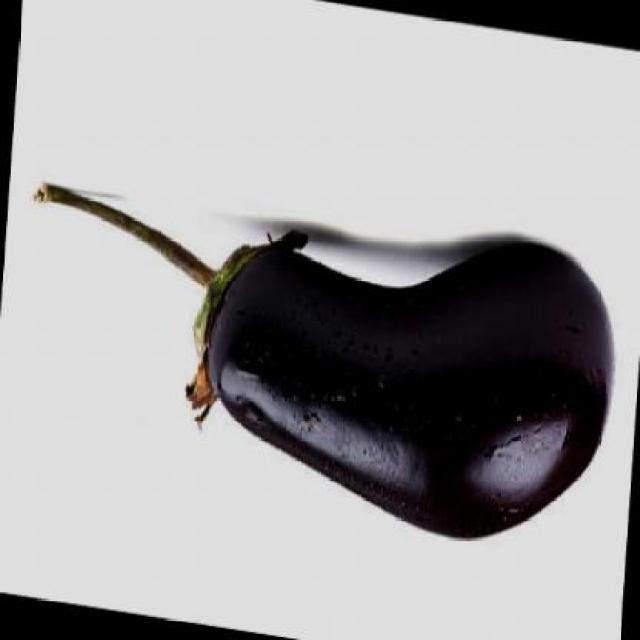eggplant: (12, 173, 620, 548)
